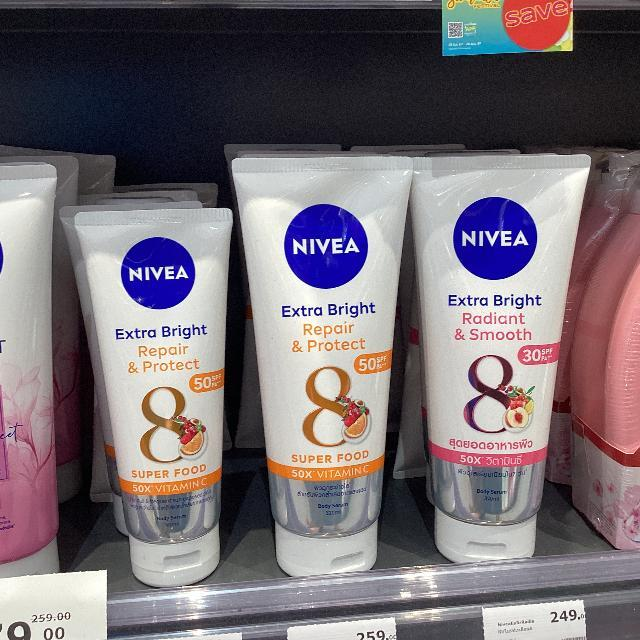Squeeze Tube: (228, 129, 418, 584), (416, 144, 597, 578), (64, 188, 256, 597), (0, 159, 68, 624)
